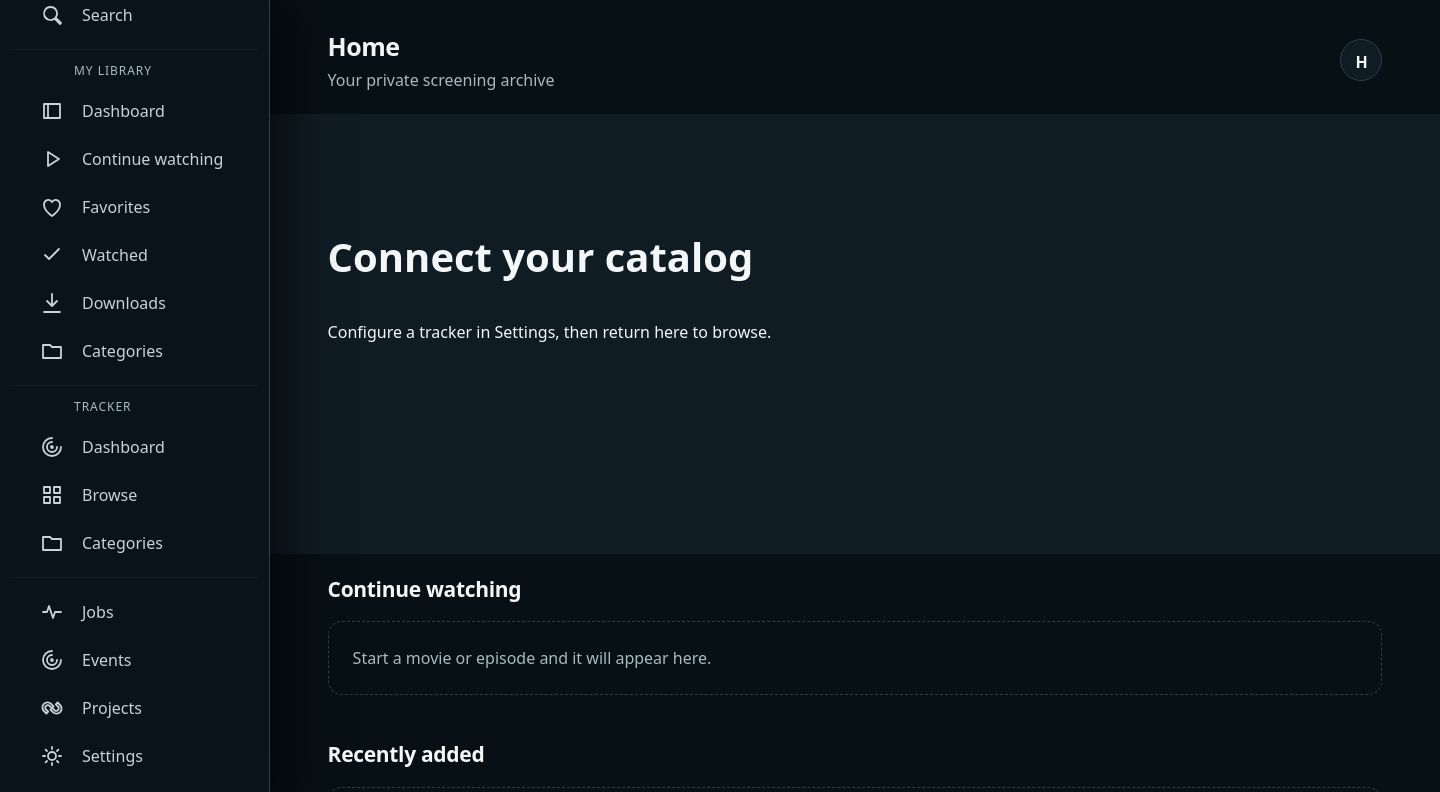
Scenario: settings tabs › reflects the active tab in the URL hash when switching
(page scrolled)
Click the button "Settings" at (135, 756), box [12,732,258,780]
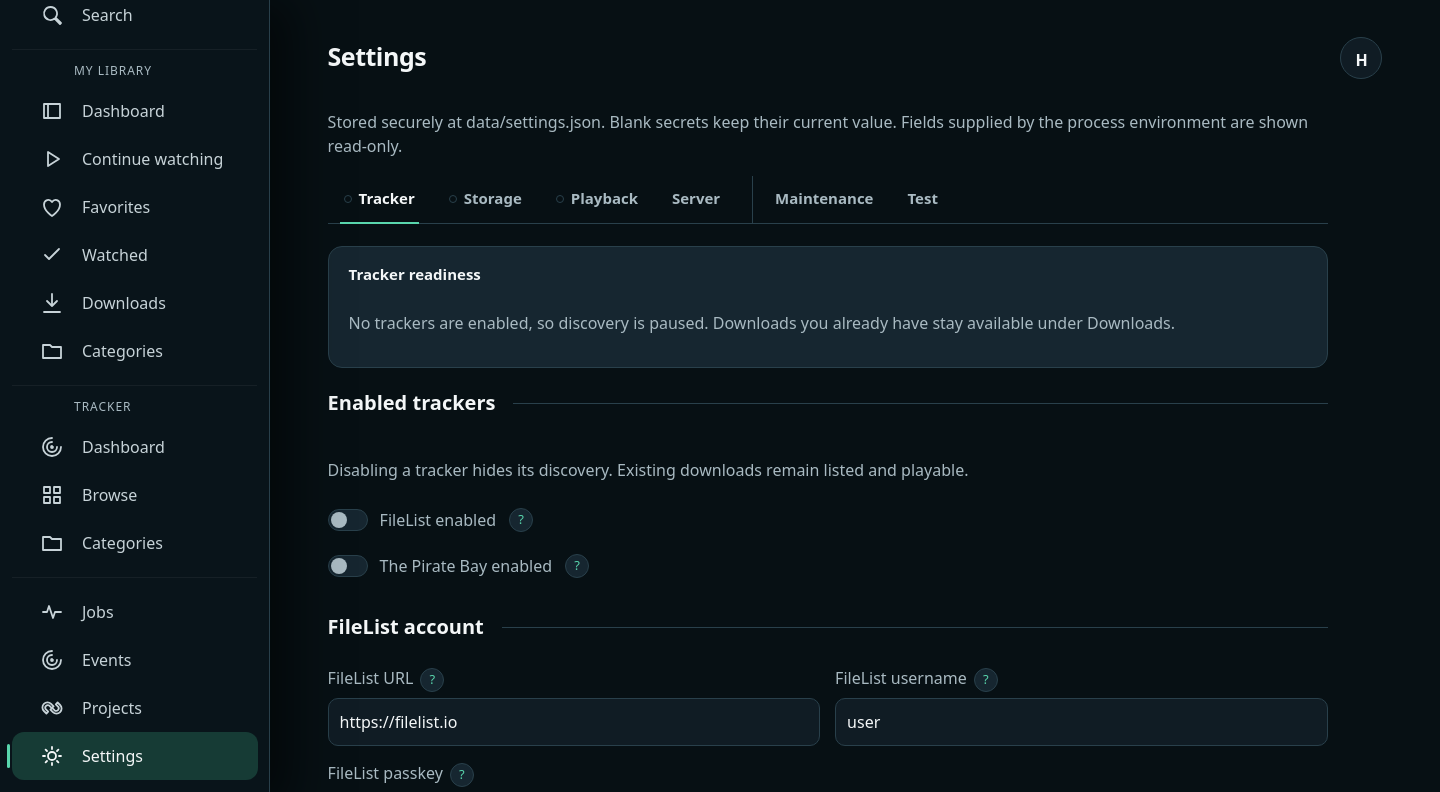
Click the tab "Storage" at (485, 199), box [433,176,538,222]
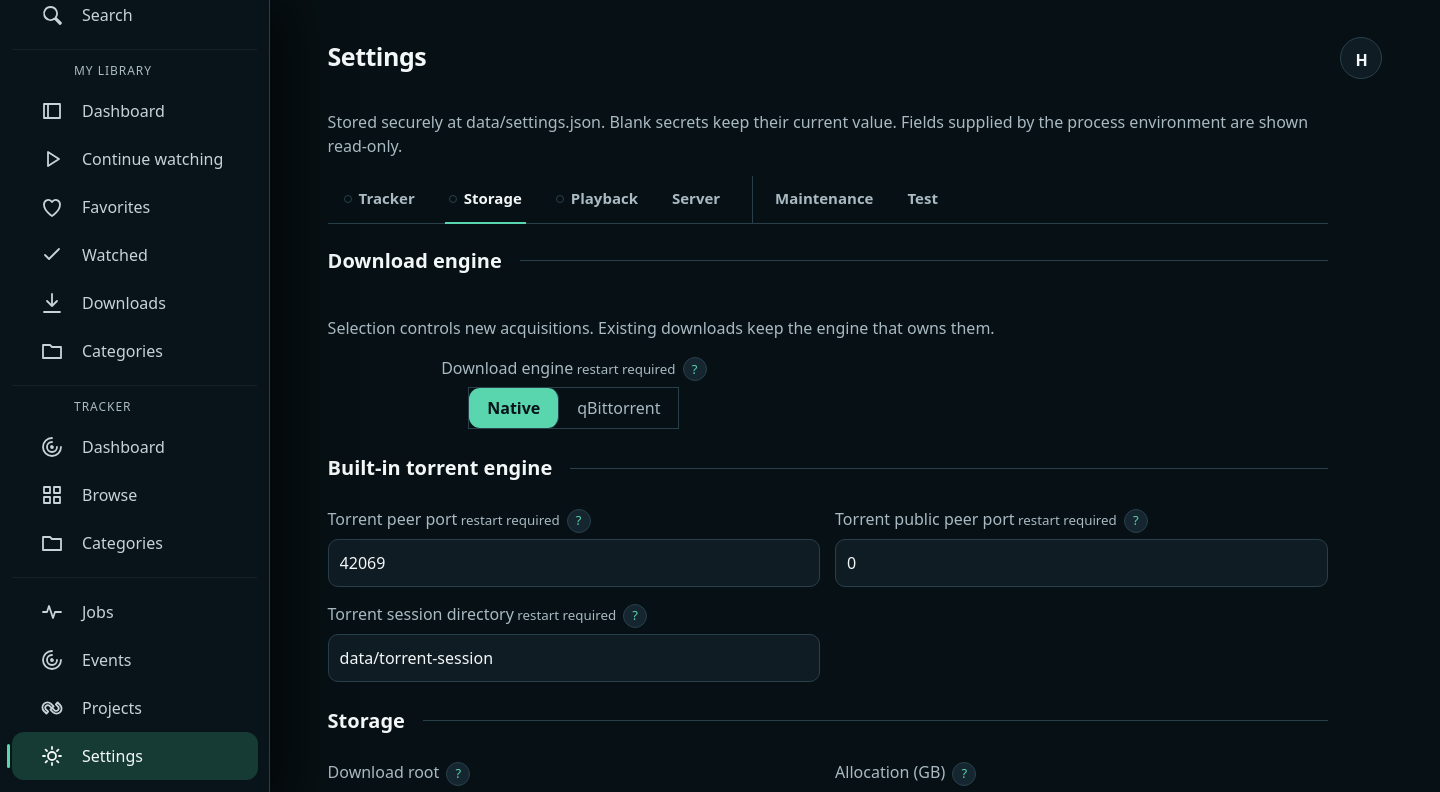
Result: the panel with class "settings-panel" shows "Download engine" at [328,246,502,274]
